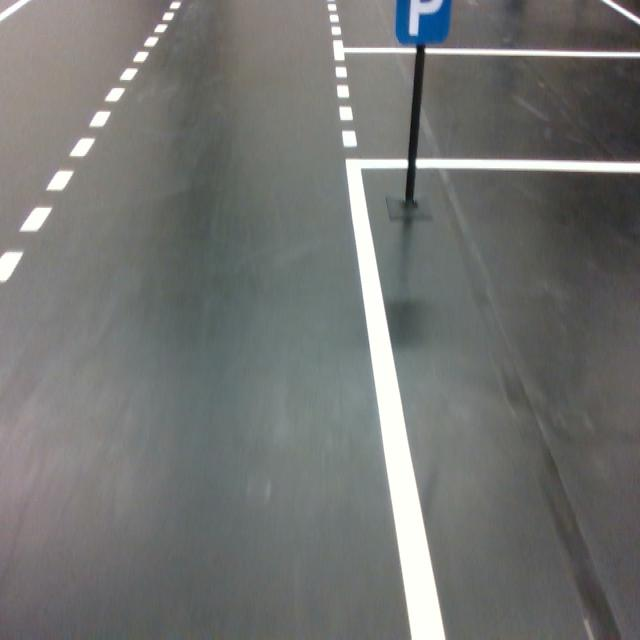parking-sign: (395, 0, 452, 45)
